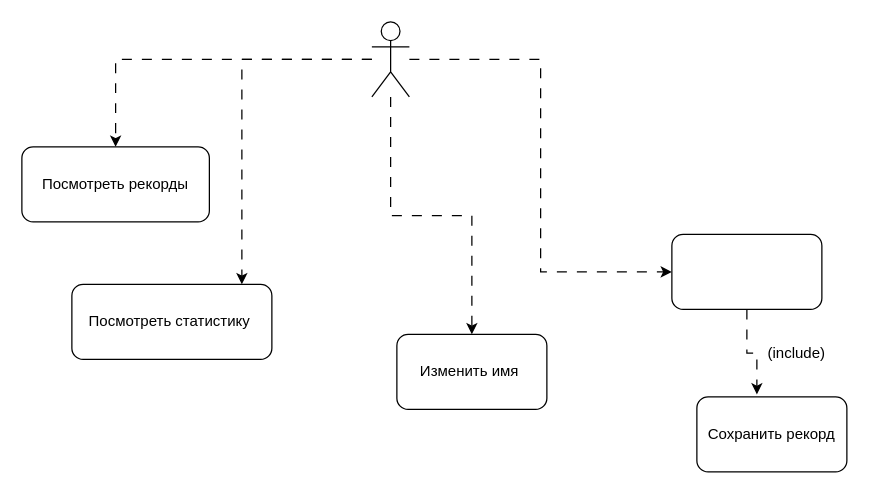
The diagram is 869 pixels wide and 494 high, and some of its shapes have lost their labels. The shapes that lost their labels are listed below. From the top down, each one's centre as x and y in pixels, then its label:
At pixel 390 59: "игрок".
At pixel 746 271: "Играть".
